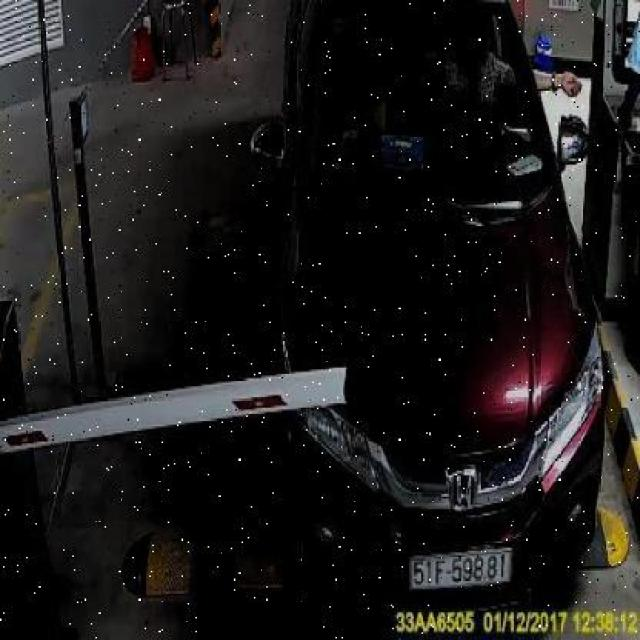number_plate: (406, 543, 512, 588)
